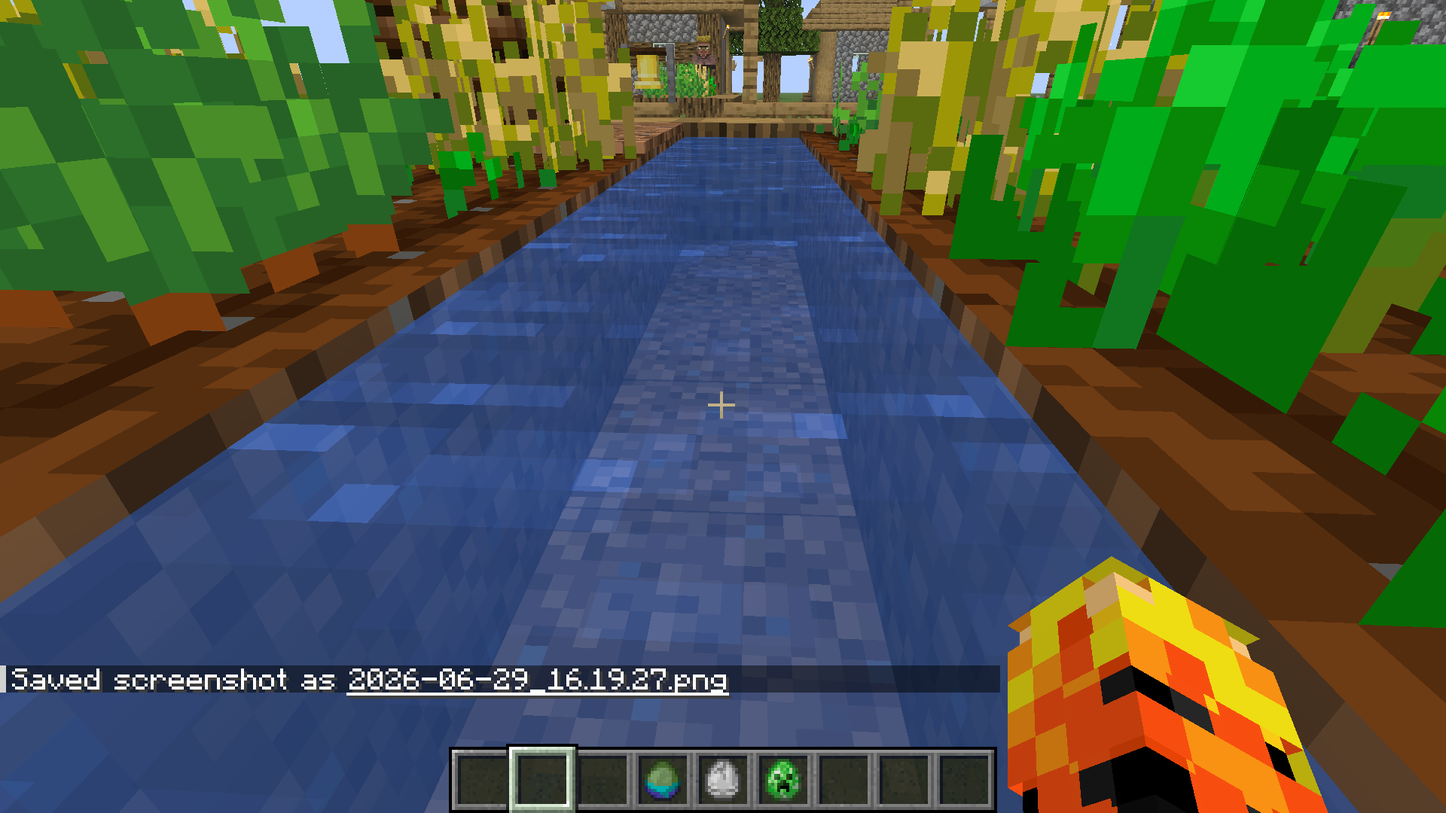water: (5, 136, 1141, 615)
